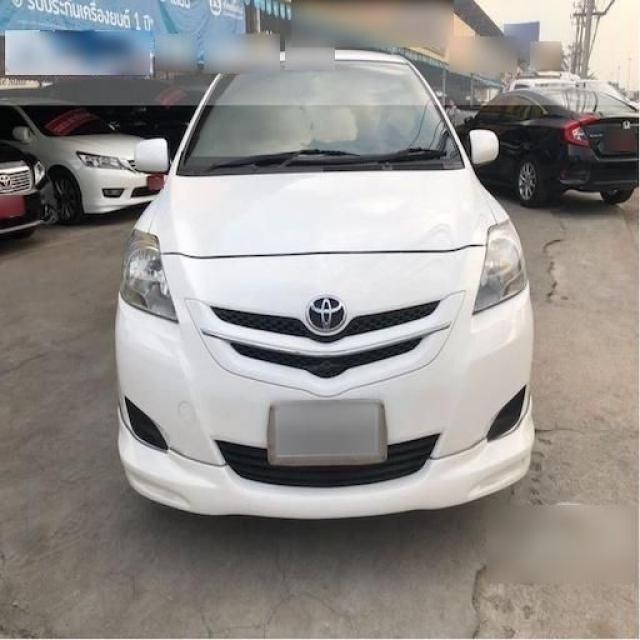front_bumper: (116, 246, 538, 518)
front_glass: (176, 60, 466, 176)
front_left_light: (474, 219, 526, 313)
front_right_light: (121, 227, 179, 321)
hood: (148, 170, 499, 258)
left_mirror: (468, 129, 500, 168)
right_mirror: (134, 139, 170, 176)
